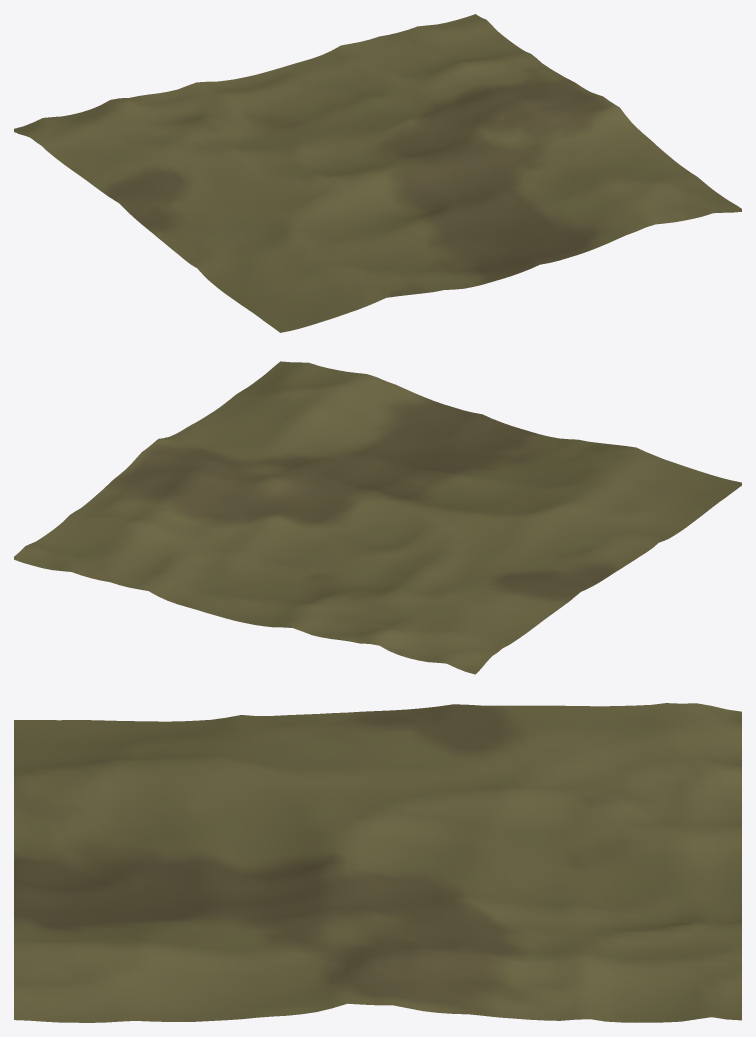
File: land_m_12_03.glb
3 views of the same model, one above another, from view 1: azimuth 30°, elevation 25°; view 2: azimuth 150°, elevation 25°; view 3: azimuth 270°, elevation 25° (orthographic). The views are drawn at different scales.
Visible parts, largest first — view 1: land_m_12_03; view 2: land_m_12_03; view 3: land_m_12_03.
Part boxes in pixels (x1,y1,x2,y2): land_m_12_03: (14, 14, 741, 332); land_m_12_03: (14, 361, 741, 674); land_m_12_03: (14, 703, 741, 1022).
Size of the model in its own units: 960 by 54.79 by 960.
